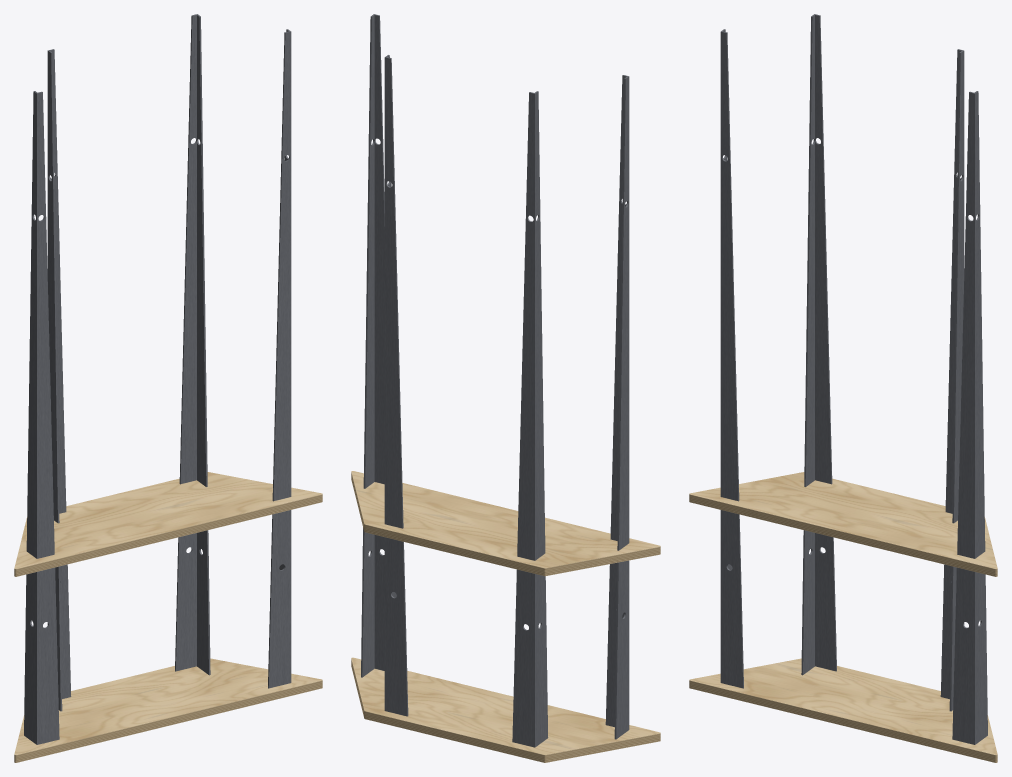
Rendered from mies-inferior.glb.
3 renders of one model, left to right at view 1: azimuth 30°, elevation 25°; view 2: azimuth 150°, elevation 25°; view 3: azimuth 330°, elevation 25°, orthographic.
Parts seen in each view (by area): view 1: mies; view 2: mies; view 3: mies.
Boxes of the visible parts, x1,y1,x2,y2 form: mies: (14, 14, 322, 762); mies: (351, 14, 660, 762); mies: (689, 14, 997, 762).
Bounding box in the file's own units: 1.03 × 2.1 × 0.3.
Materials: 3 (3 with a texture image).
